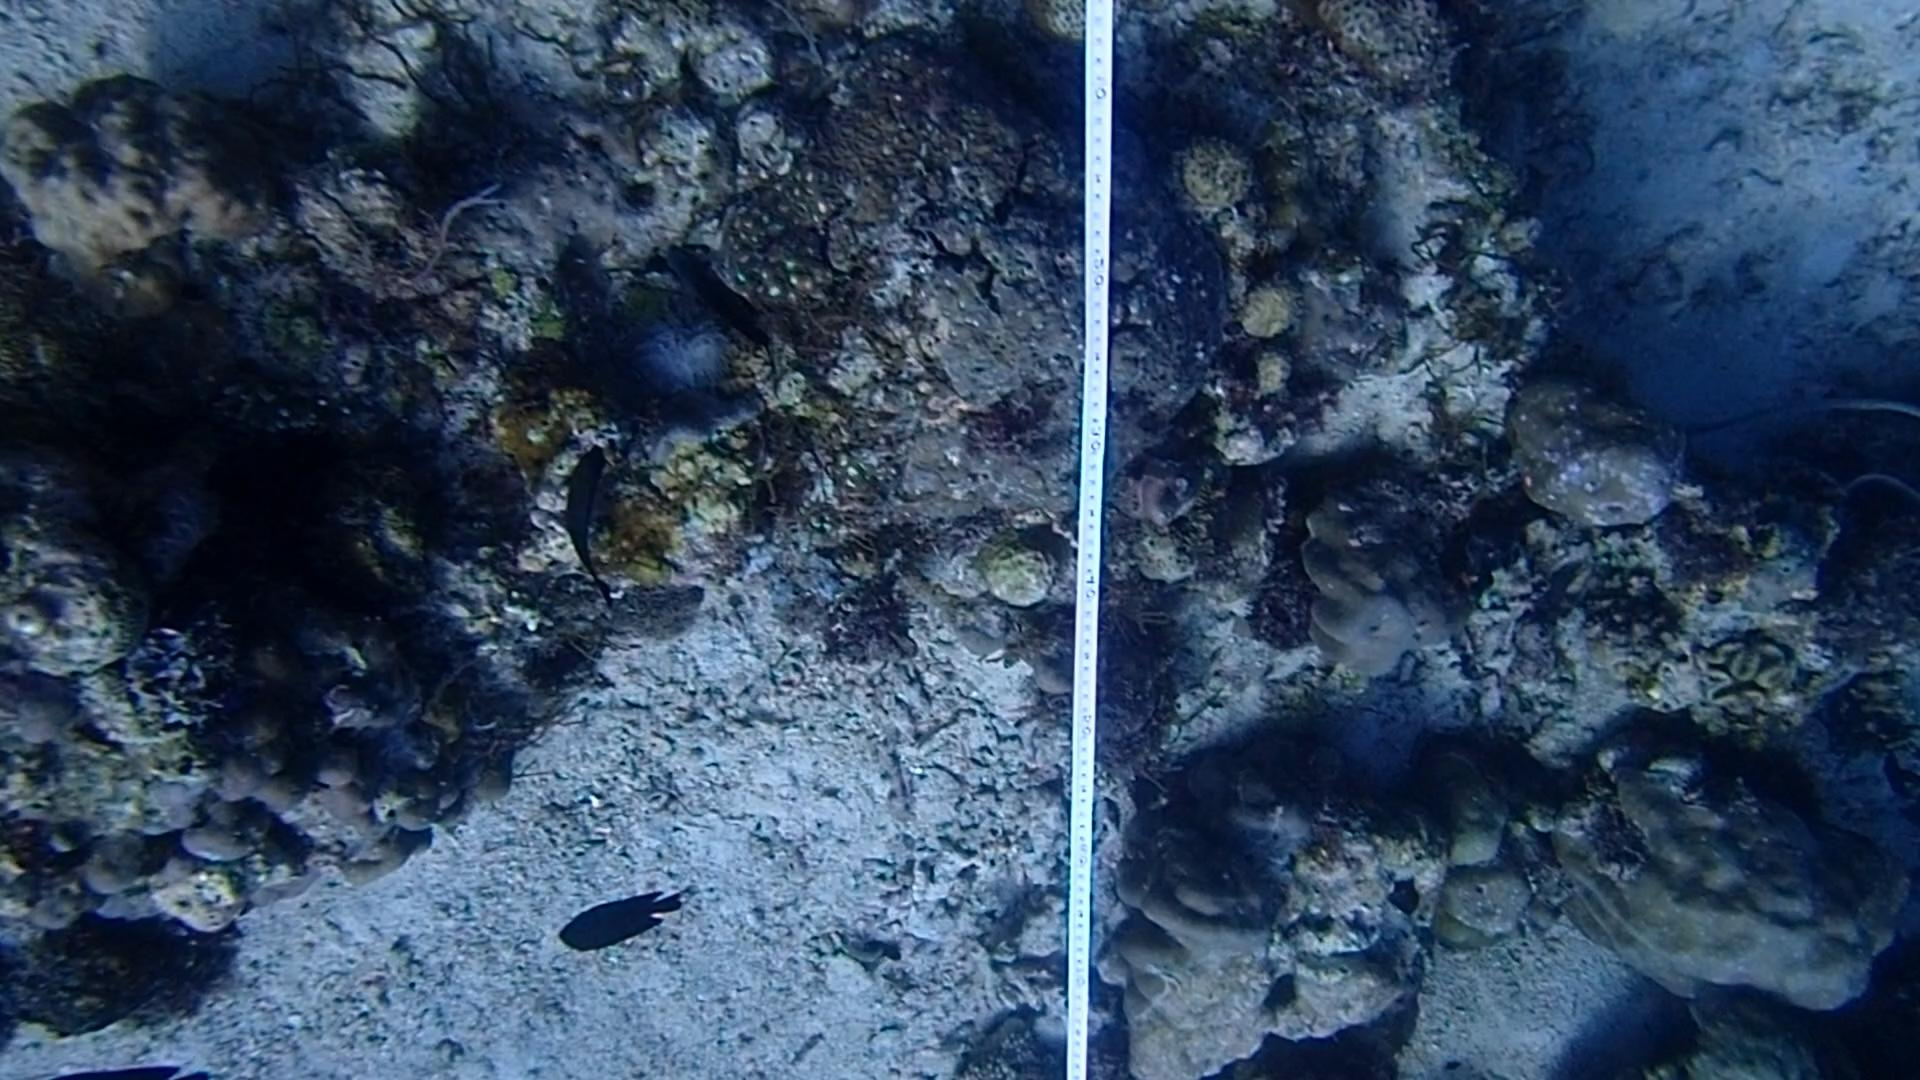Dark Fish: (662, 241, 779, 369), (545, 872, 687, 961), (551, 442, 620, 616)
